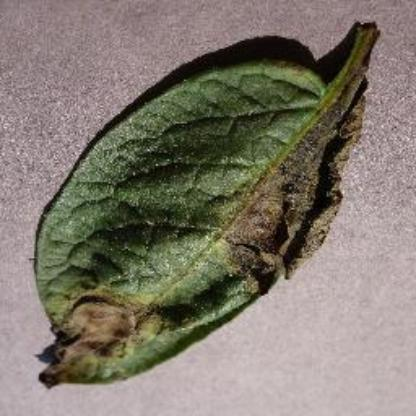Late-Blight: (36, 16, 378, 390)
